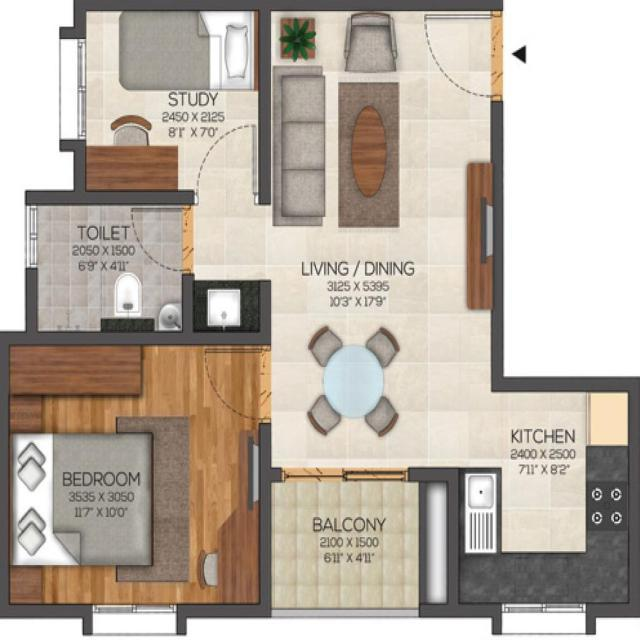Balcony-Sitout: (262, 469, 457, 608)
Bedroom: (1, 332, 271, 618)
Dining: (293, 315, 413, 445)
Enterance-Foyer: (422, 10, 531, 105)
Kitchen: (448, 377, 639, 616)
Living: (259, 0, 504, 280)
Toilet: (26, 191, 193, 343)
